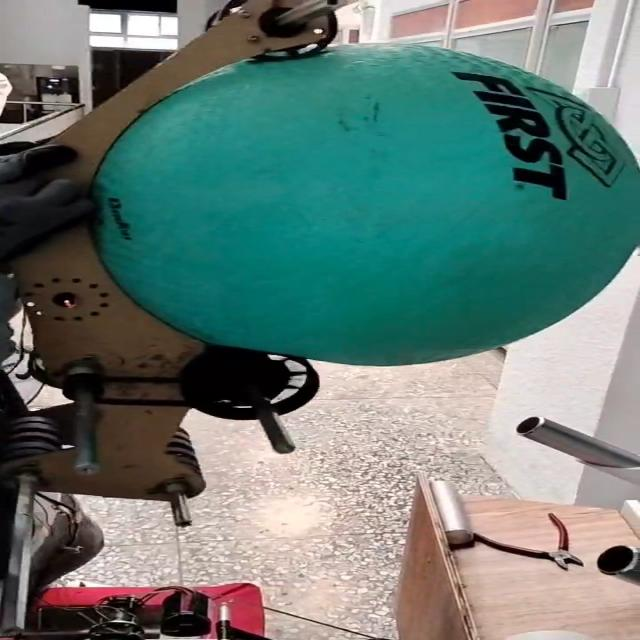ALGAE: (73, 43, 640, 374)
